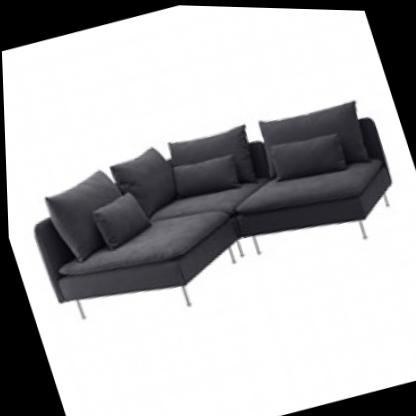Sofa: (2, 61, 416, 354)
